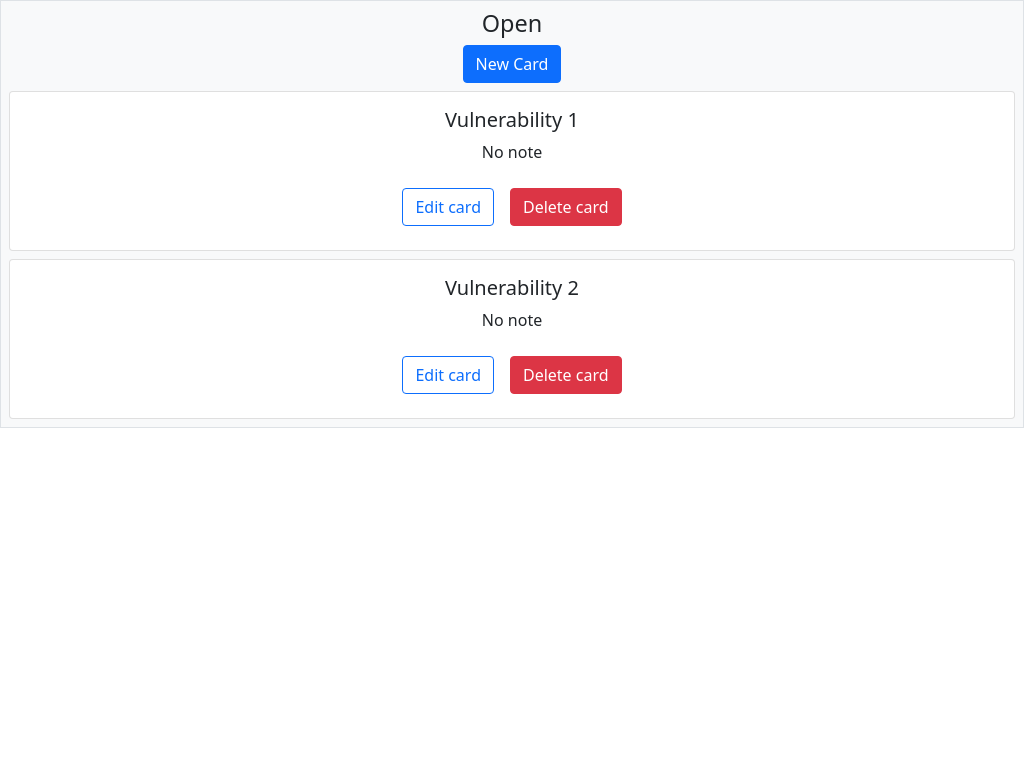
Test case: List › should update existing card info
Expected: the text "Vulnerability 1" is shown, [445,106,579,133]
Click the button with test id "edit-card-btn-m-card" at (448, 207), box [402,188,494,226]
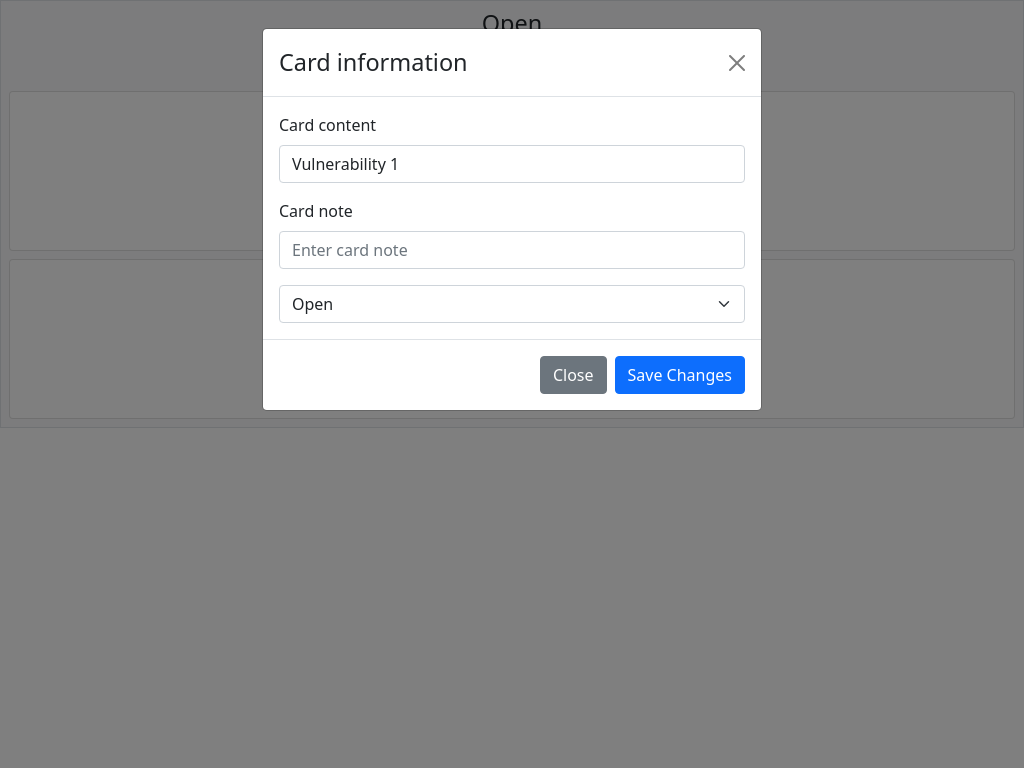
Expected: the text "Card information" is shown, [279,45,468,80]
Replace the text in the field with test id "card-text" showing "Card content" with "Vulnerability A" at (512, 164), box [279,145,745,183]
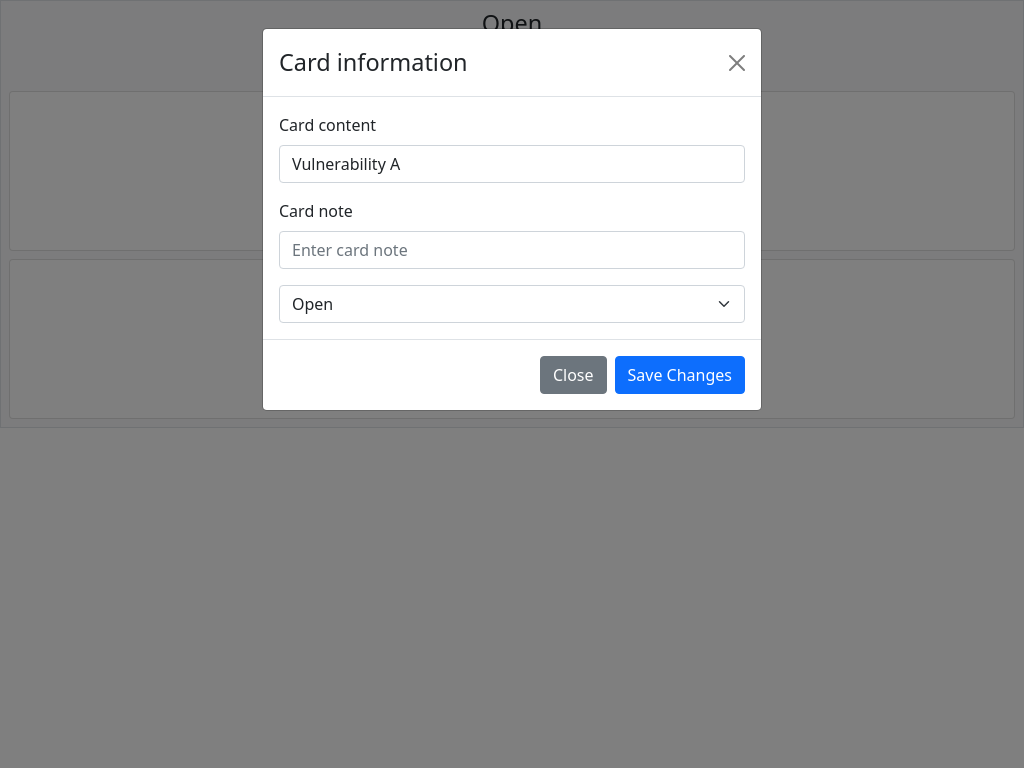
Type "Vulnerability A note" into the field with test id "card-note" at (512, 250), box [279,231,745,269]
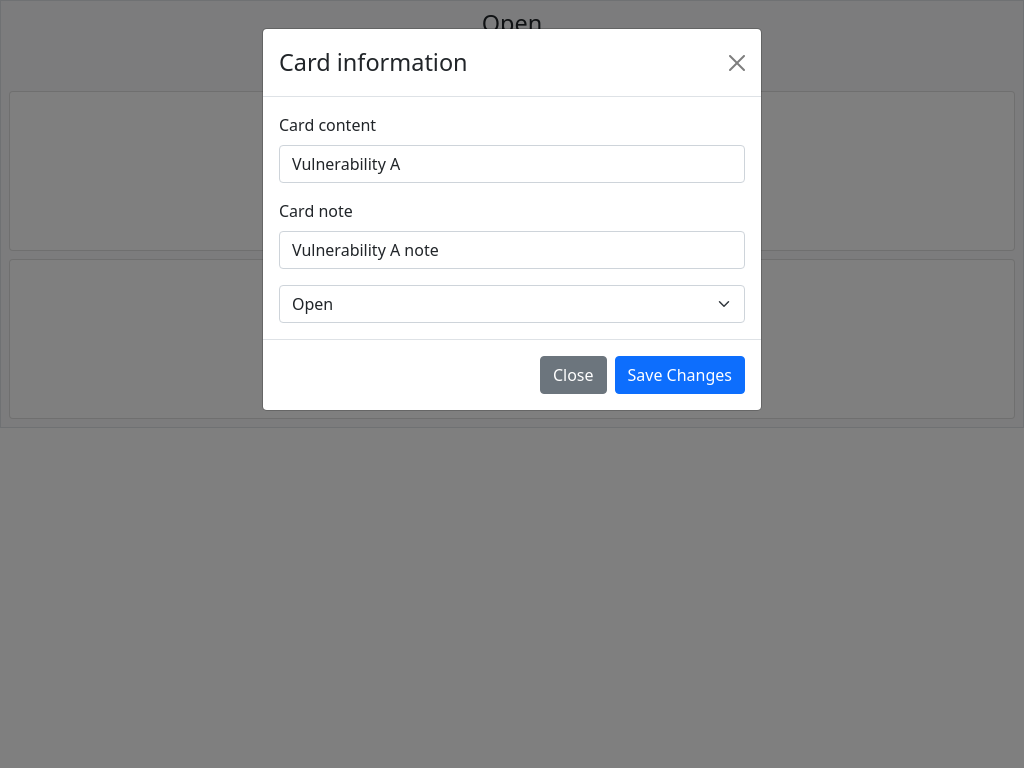
Click the button with test id "submit-btn" at (680, 375), box [614,356,745,394]
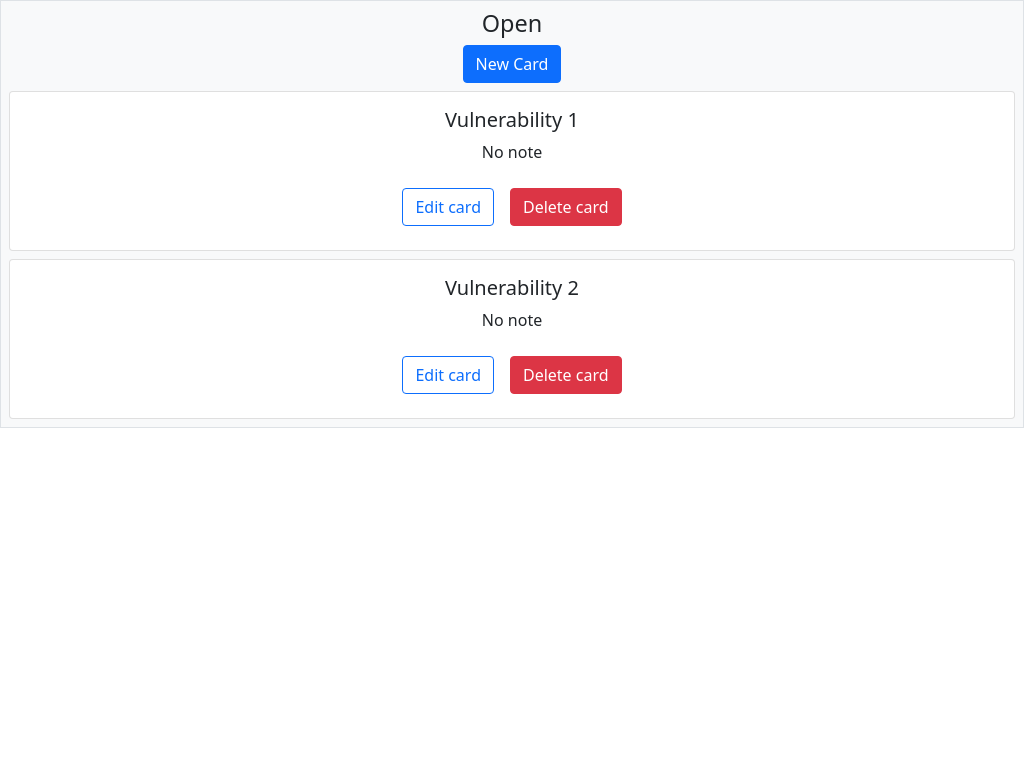
Expected: the text "Card information" is gone
